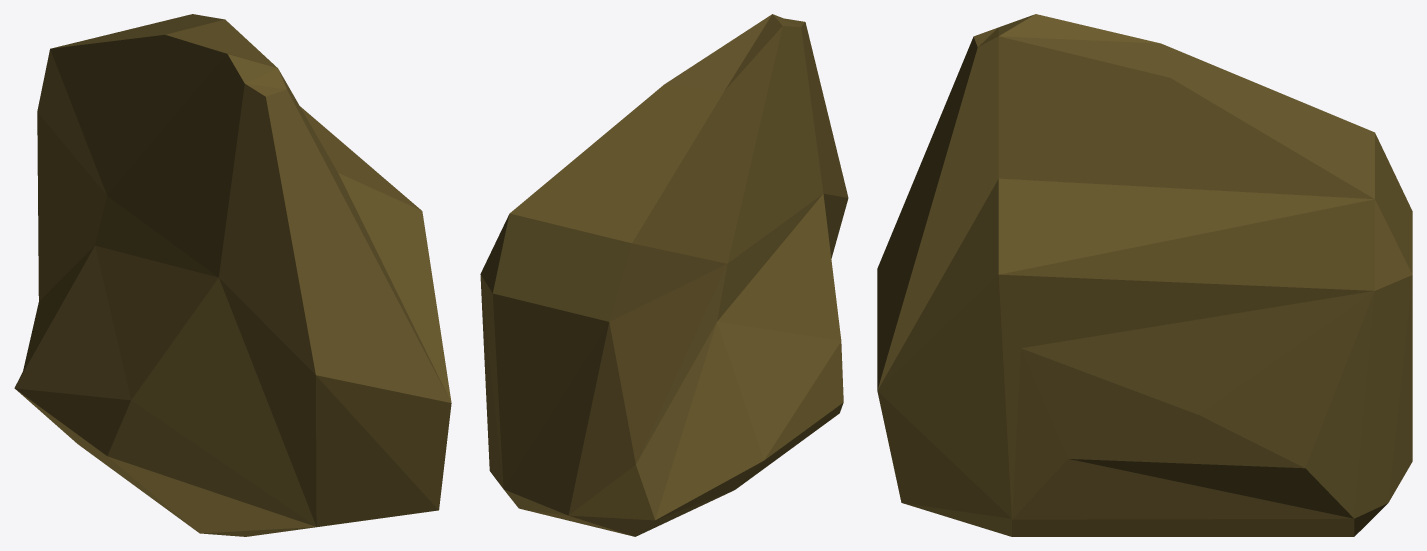
The model's file is Rock5.fbx.
3 renders of one model, left to right at view 1: azimuth 30°, elevation 25°; view 2: azimuth 150°, elevation 25°; view 3: azimuth 270°, elevation 25°, orthographic. The views are drawn at different scales.
Parts seen in each view (by area): view 1: Group1; view 2: Group1; view 3: Group1.
Boxes of the visible parts, bbox=[...] form: Group1: bbox=[14, 14, 451, 536]; Group1: bbox=[480, 14, 848, 536]; Group1: bbox=[877, 14, 1412, 536].
Bounding box in the file's own units: 4392 × 6694 × 7112.
